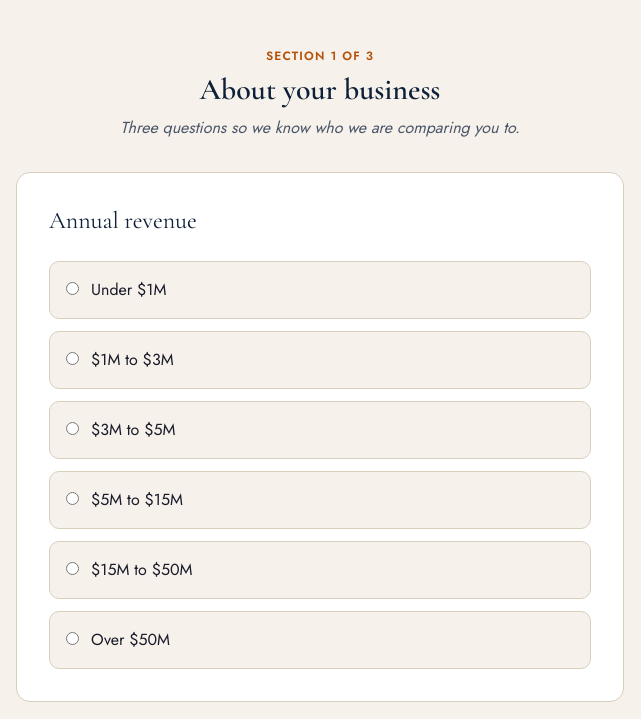
Test: QuizFlow › renders the first question on mount and disables Next until selected
Expected: the text "Section 1 of 3" is shown, top-left (266, 47), bottom-right (374, 65)
Click the radio button labelled "Under $1M".
click(72, 288)  # box top-left (66, 282), bottom-right (79, 295)
(page scrolled)
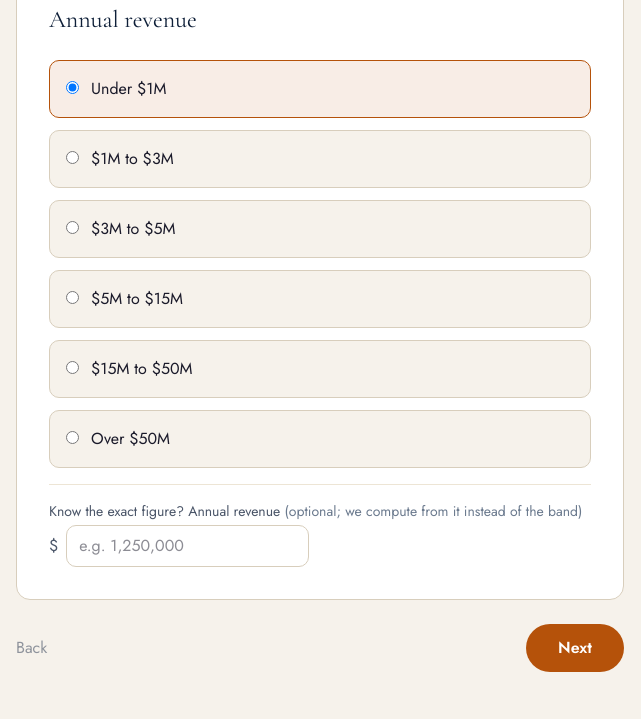
Now the button "Next" is enabled, box top-left (526, 624), bottom-right (624, 672)
